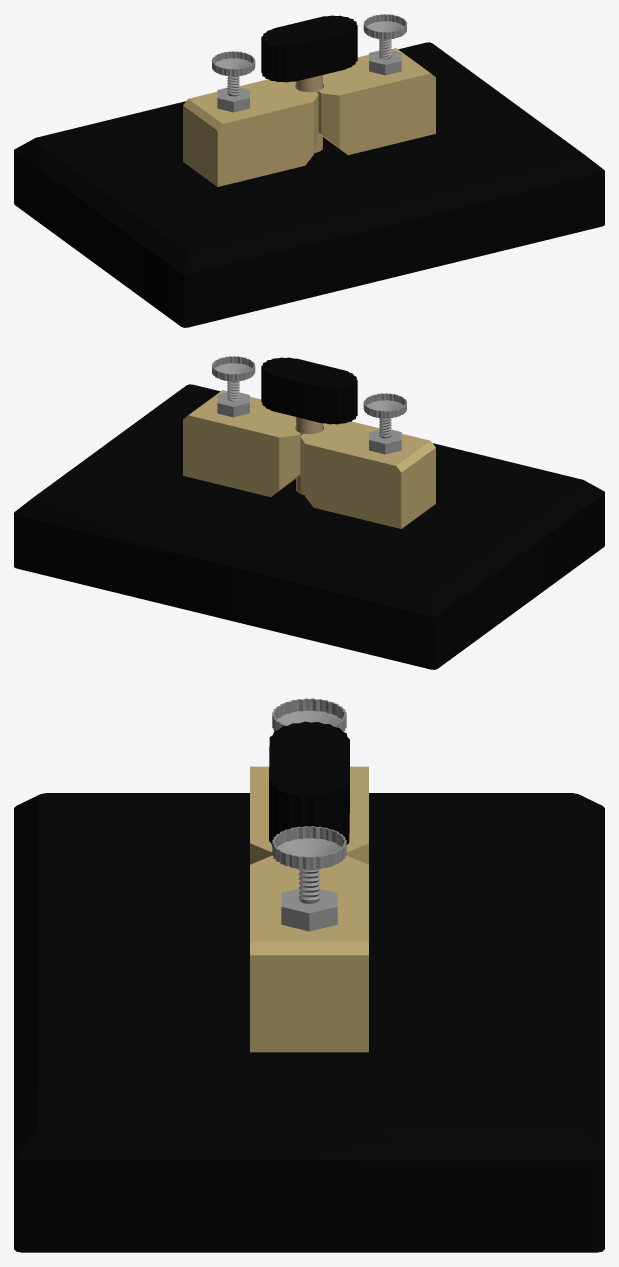
File: key.gltf
The picture shows the model from 3 angles, top to bottom: view 1: azimuth 30°, elevation 25°; view 2: azimuth 150°, elevation 25°; view 3: azimuth 270°, elevation 25°; orthographic projection. The views are drawn at different scales.
Parts seen in each view (by area): view 1: key_Base, key_Conductor, key, key_terminal_B_Knob, key_terminal_A_Knob, key_terminal_B, key_terminal_A; view 2: key_Base, key_Conductor, key, key_terminal_B_Knob, key_terminal_A_Knob, key_terminal_B, key_terminal_A; view 3: key_Base, key_Conductor, key, key_terminal_B_Knob, key_terminal_B, key_terminal_A_Knob.
Part boxes in pixels (<box>): key_Base: <box>14,42,604,327</box>; key_Conductor: <box>183,48,435,186</box>; key: <box>261,15,357,152</box>; key_terminal_B_Knob: <box>363,14,407,39</box>; key_terminal_A_Knob: <box>211,51,255,77</box>; key_terminal_B: <box>369,39,401,75</box>; key_terminal_A: <box>217,76,249,112</box>; key_Base: <box>14,384,604,669</box>; key_Conductor: <box>183,390,435,528</box>; key: <box>261,357,357,494</box>; key_terminal_B_Knob: <box>211,356,255,381</box>; key_terminal_A_Knob: <box>363,393,407,419</box>; key_terminal_B: <box>217,381,249,417</box>; key_terminal_A: <box>369,418,401,454</box>; key_Base: <box>14,793,604,1252</box>; key_Conductor: <box>250,766,368,1052</box>; key: <box>269,721,349,846</box>; key_terminal_B_Knob: <box>272,826,346,870</box>; key_terminal_B: <box>281,869,337,931</box>; key_terminal_A_Knob: <box>272,698,346,731</box>.
Size of the model in its own units: 0.1221 by 0.0505 by 0.0858.
